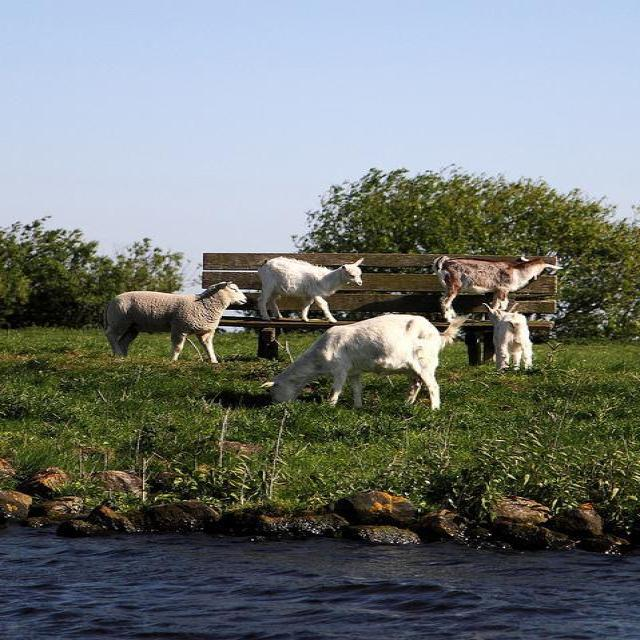Sheep: (258, 312, 470, 414), (107, 281, 254, 365), (434, 256, 565, 323), (258, 257, 365, 323), (486, 305, 538, 371)
